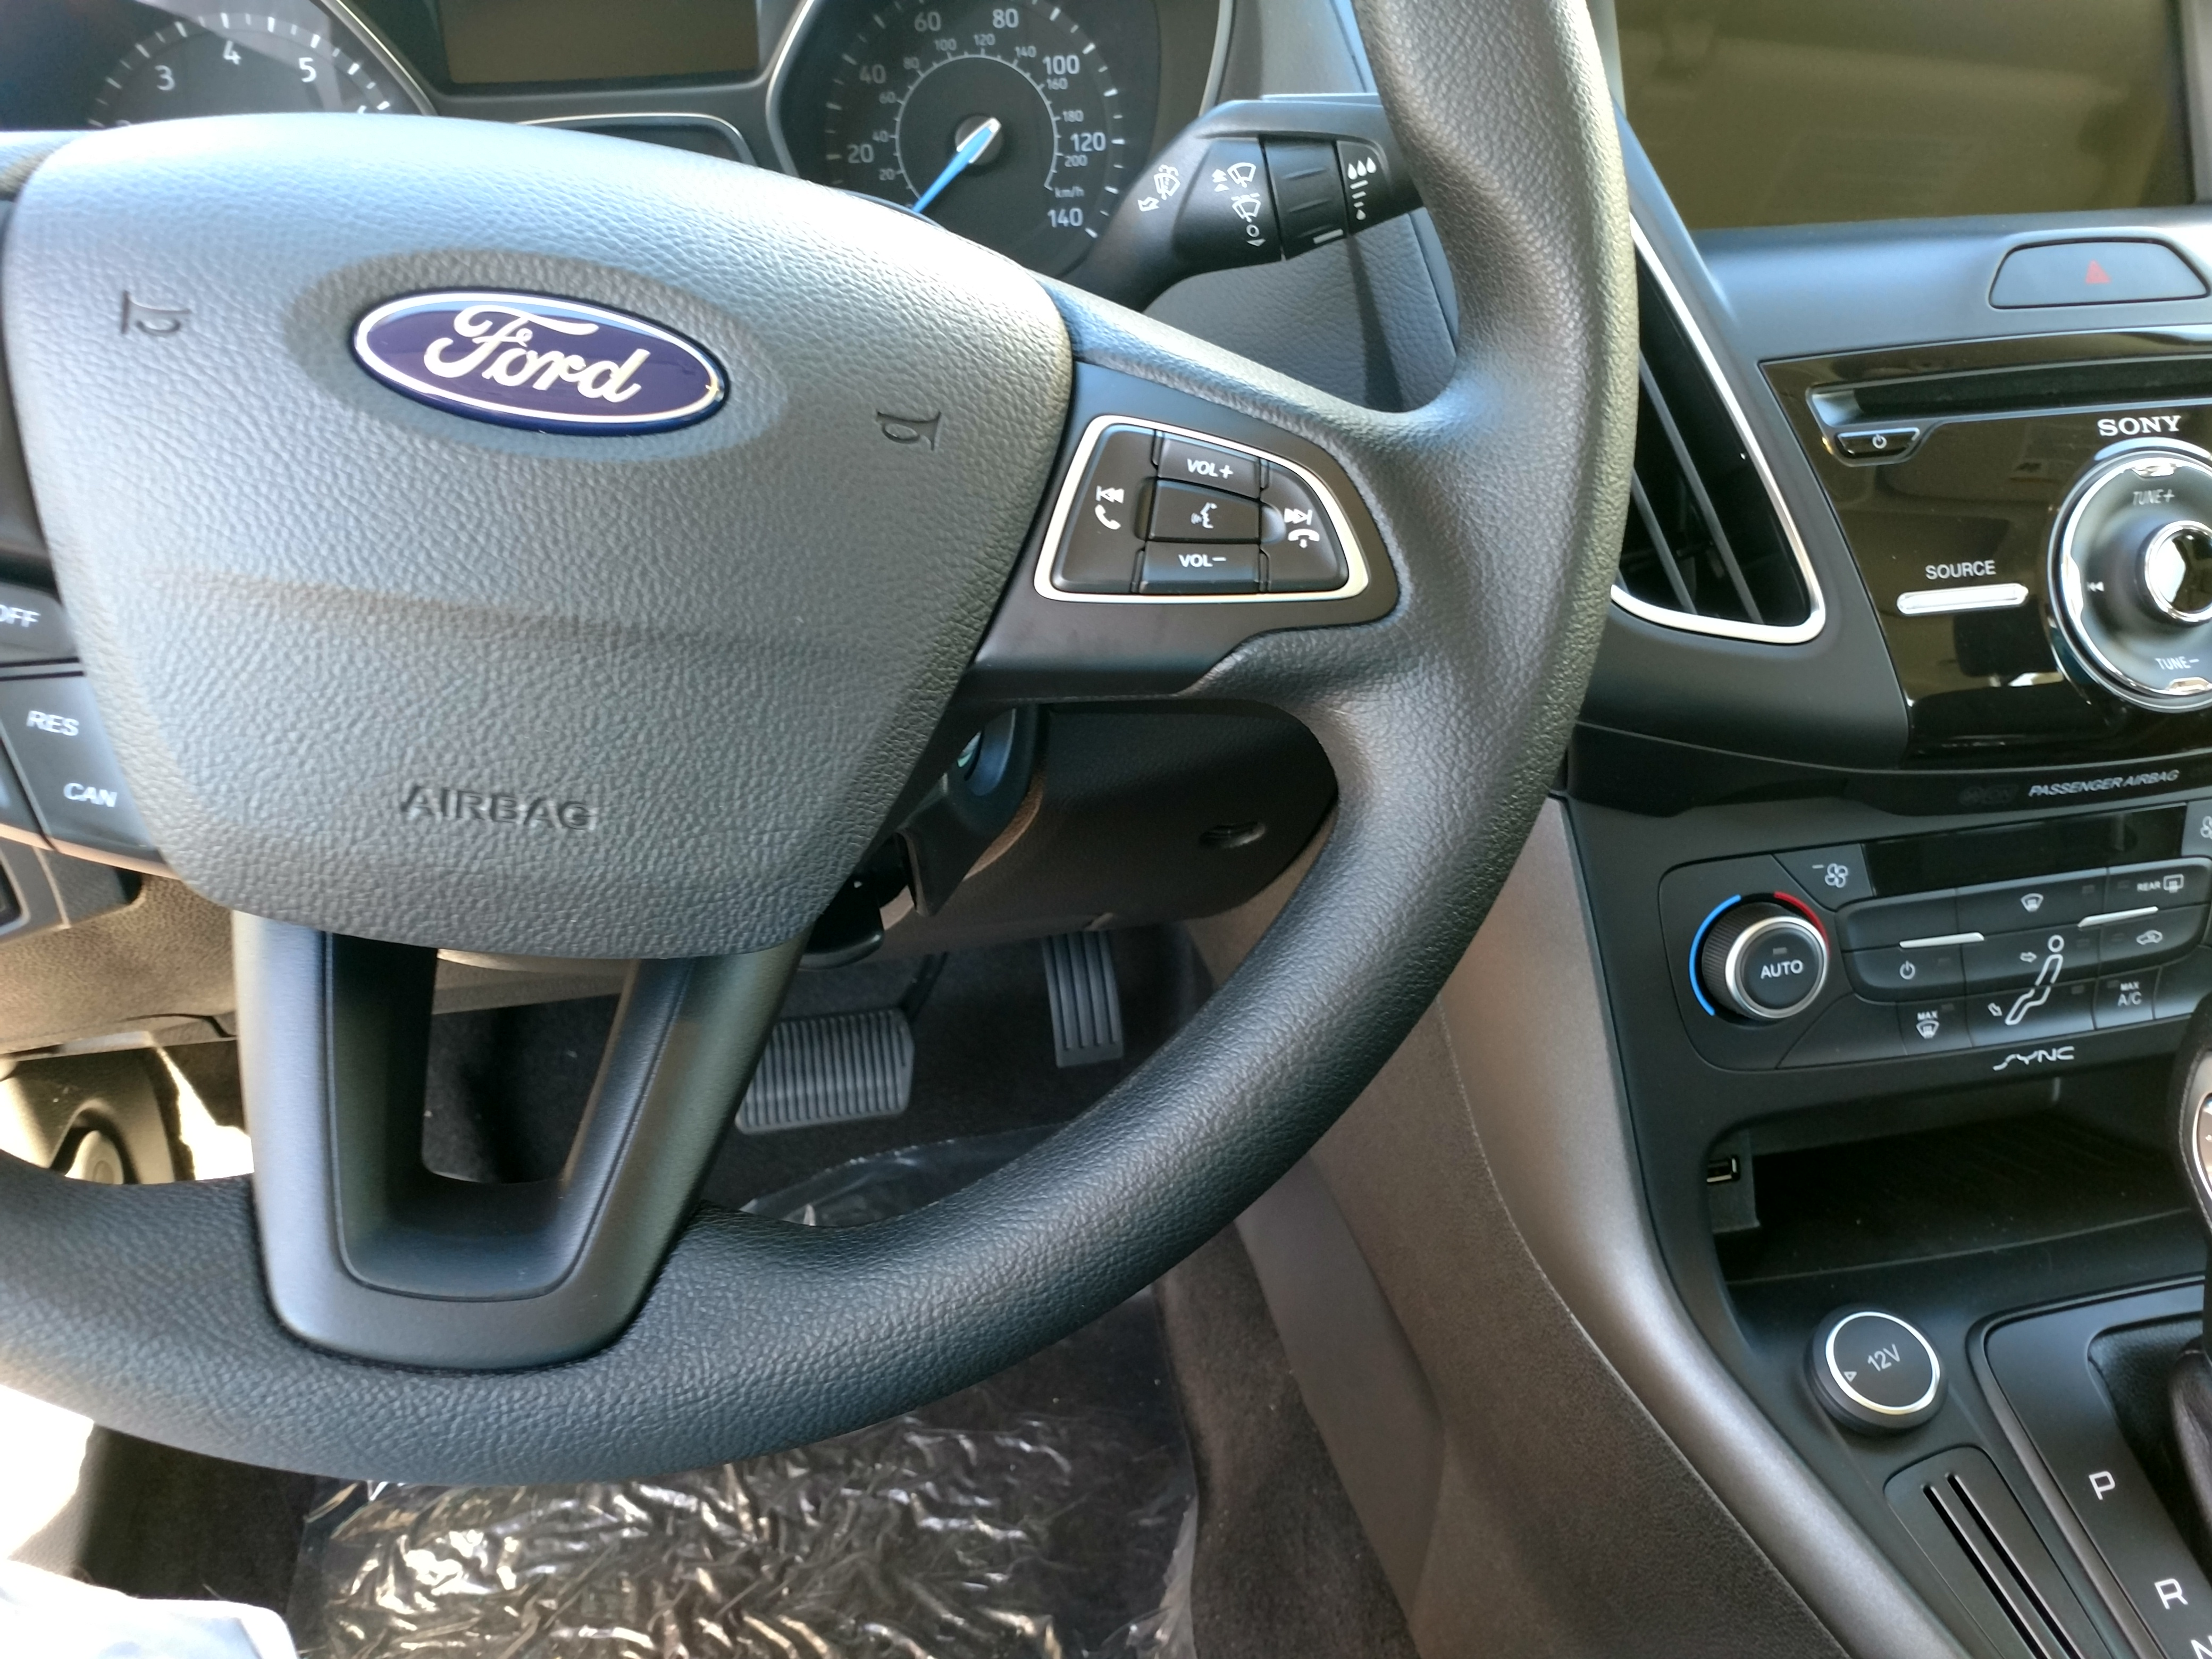Ford: (326, 260, 758, 450)
